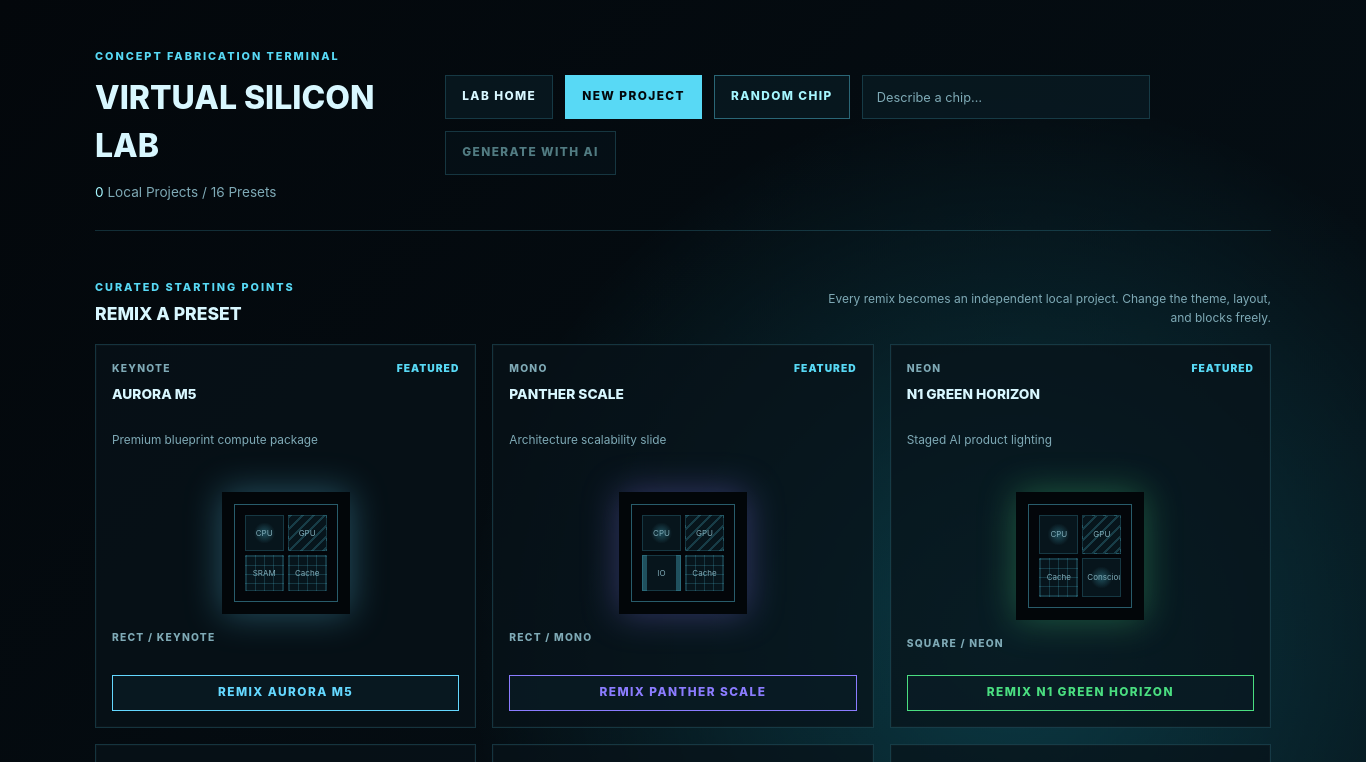
Test case: ProjectDashboard › shows an inline message and creates no project when generation fails
The width and height of the screenshot is (1366, 762).
Type "x" into the field with placeholder "Describe a chip…" at (1006, 97), box [862, 75, 1150, 119]
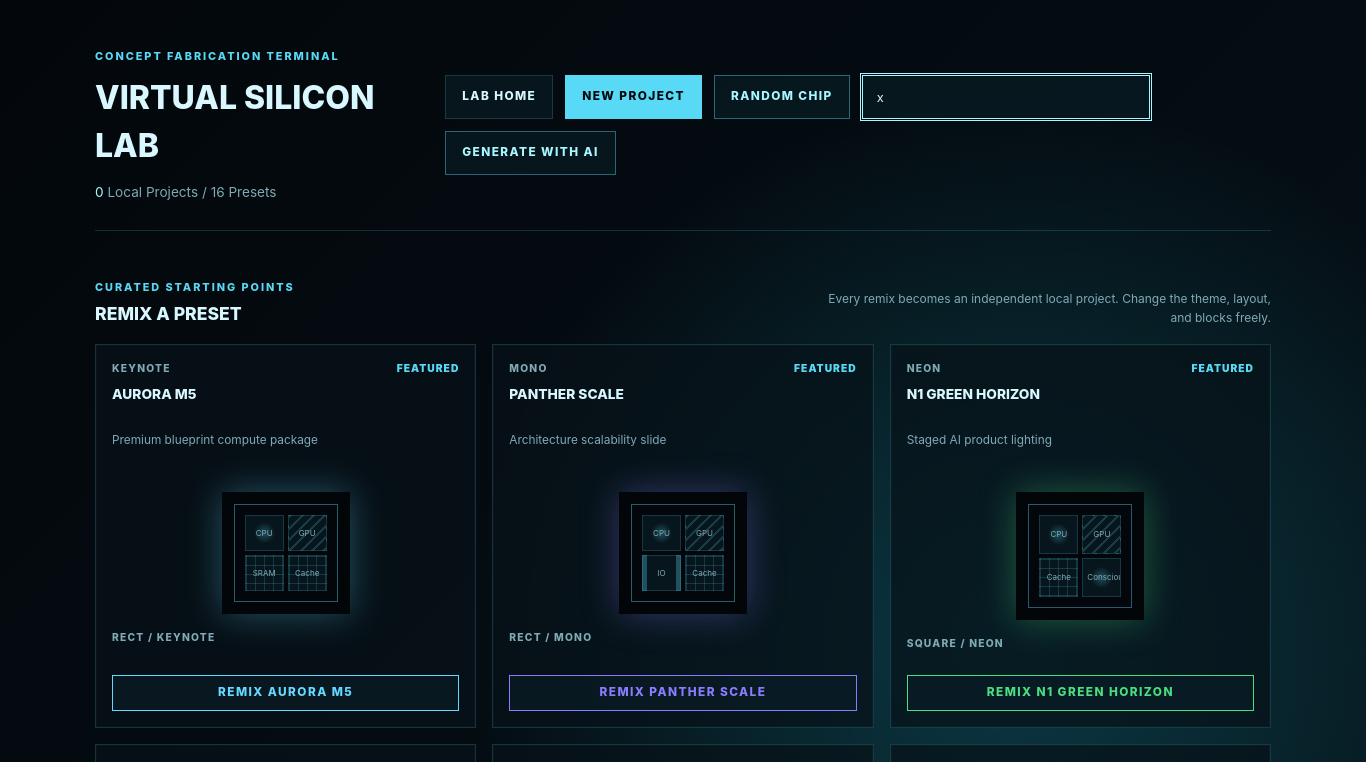
Click the button "Generate with AI" at (531, 153), box [445, 131, 616, 175]
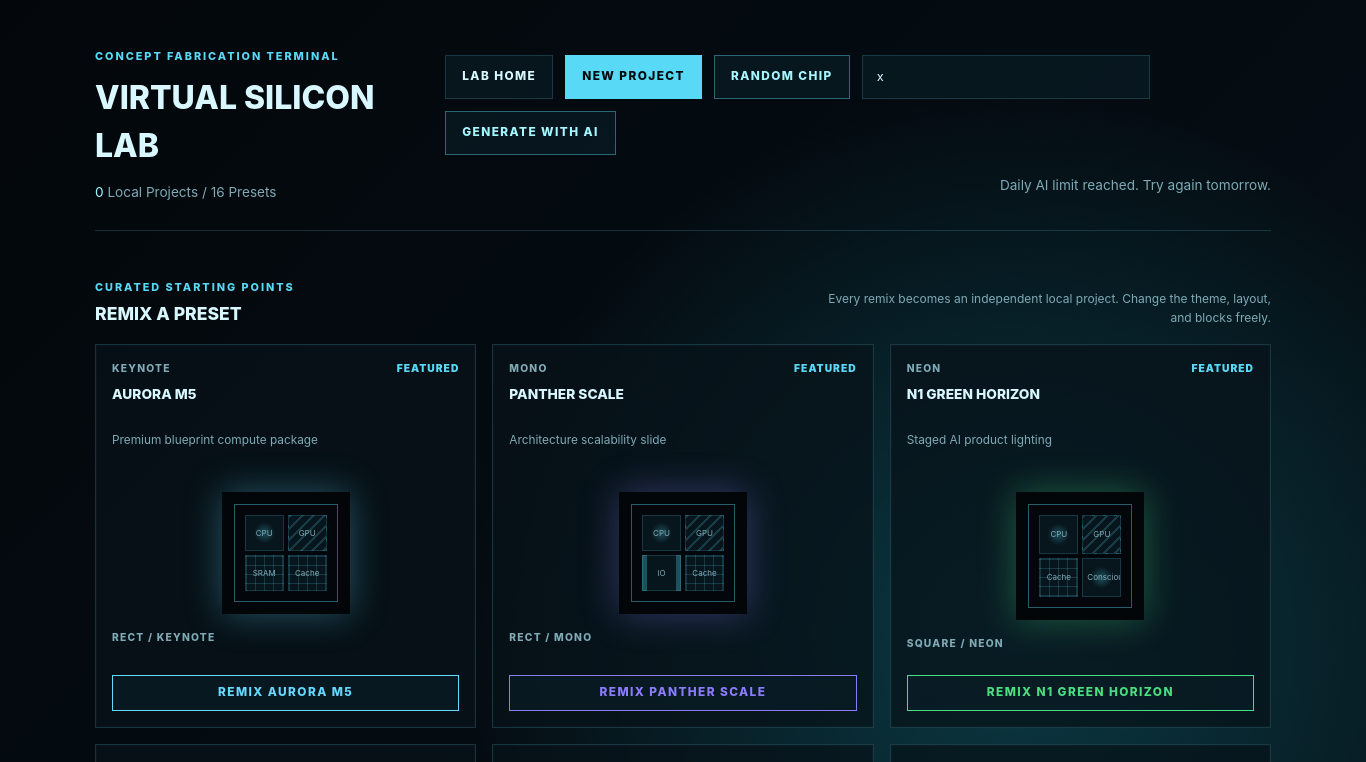
Expected: the text "Daily AI limit reached. Try again tomorrow." is shown, [1000, 175, 1271, 195]
